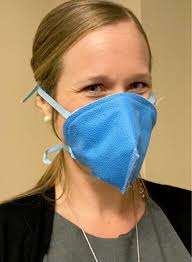mask: (50, 14, 163, 204)
